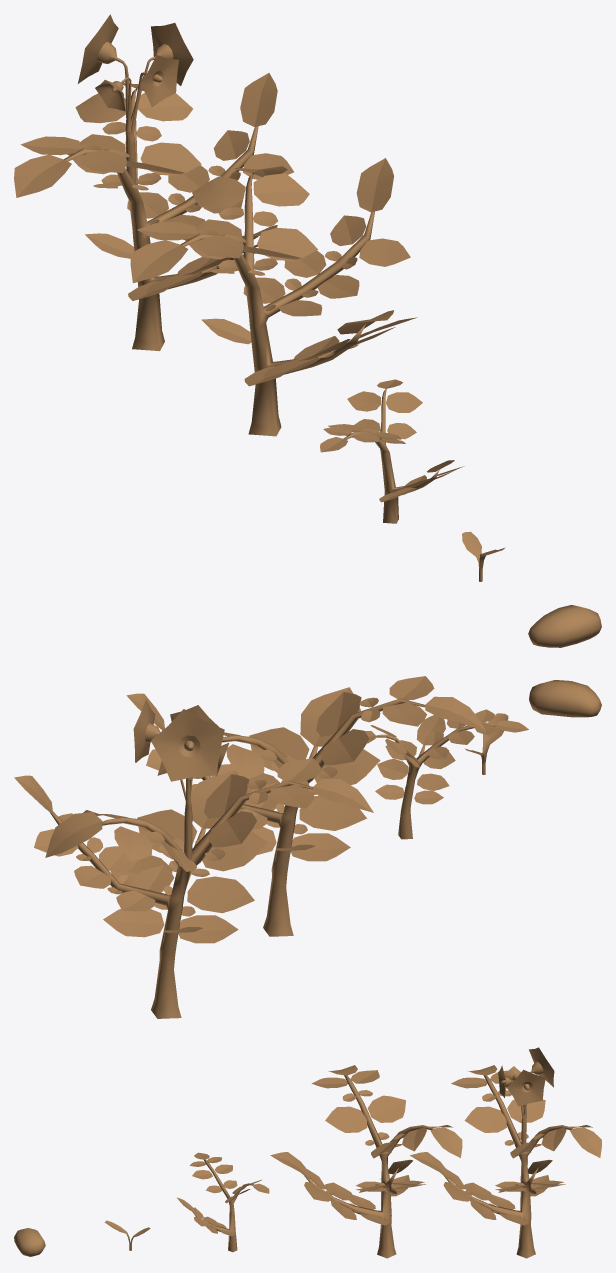
File: PotatoTexturingFile.fbx
3 views of the same model, one above another, from view 1: azimuth 30°, elevation 25°; view 2: azimuth 150°, elevation 25°; view 3: azimuth 270°, elevation 25° (orthographic). The views are drawn at different scales.
Visible parts, largest first — view 1: SM_Potato_Growing4, SM_Potato_Growing3, SM_Potato_Growing2, SM_Potato_Tuber; view 2: SM_Potato_Growing4, SM_Potato_Growing3, SM_Potato_Growing2, SM_Potato_Tuber, SM_Potato_Growing1; view 3: SM_Potato_Growing4, SM_Potato_Growing3, SM_Potato_Growing2, SM_Potato_Tuber.
Part boxes in pixels (left/top/right/bottom): SM_Potato_Growing4: left=14, top=14, right=301, bottom=351; SM_Potato_Growing3: left=130, top=158, right=417, bottom=436; SM_Potato_Growing2: left=320, top=379, right=464, bottom=523; SM_Potato_Tuber: left=528, top=605, right=601, bottom=647; SM_Potato_Growing4: left=14, top=699, right=373, bottom=1018; SM_Potato_Growing3: left=126, top=676, right=485, bottom=936; SM_Potato_Growing2: left=365, top=709, right=528, bottom=839; SM_Potato_Tuber: left=529, top=680, right=601, bottom=717; SM_Potato_Growing1: left=465, top=713, right=508, bottom=774; SM_Potato_Growing4: left=410, top=1047, right=601, bottom=1258; SM_Potato_Growing3: left=270, top=1065, right=462, bottom=1258; SM_Potato_Growing2: left=177, top=1152, right=269, bottom=1252; SM_Potato_Tuber: left=14, top=1228, right=45, bottom=1256.
Size of the model in its own units: 115 by 116 by 311.
